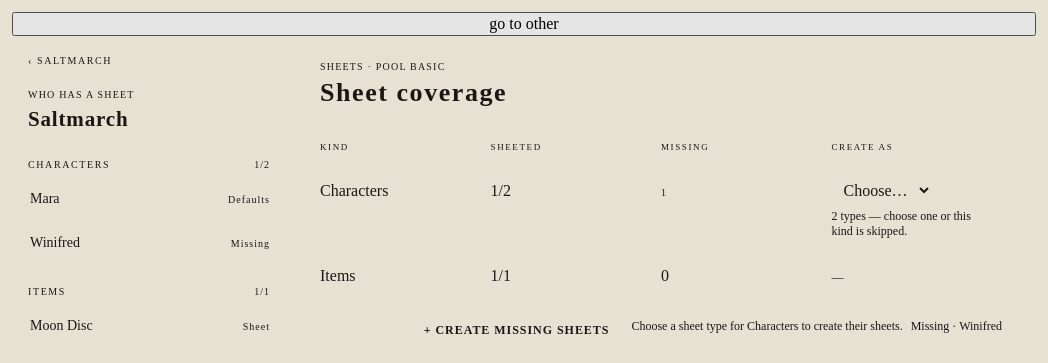
Test: a kind with more than one sheet type says so until one is chosen
The width and height of the screenshot is (1048, 363).
Expected: the heading "Sheet coverage" is shown, [320,78,507,107]
Expected: the text "2 types — choose one or this kind is skipped." is shown, [832,209,990,239]
Select "Medium" in the dropdown named "Sheet type for Characters": (882, 191) [832,176,932,205]
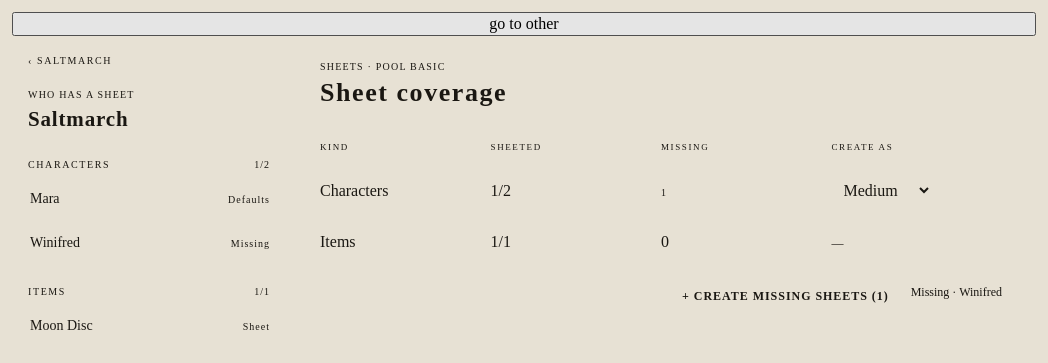
Expected: the text "2 types — choose one or this kind is skipped." is gone
